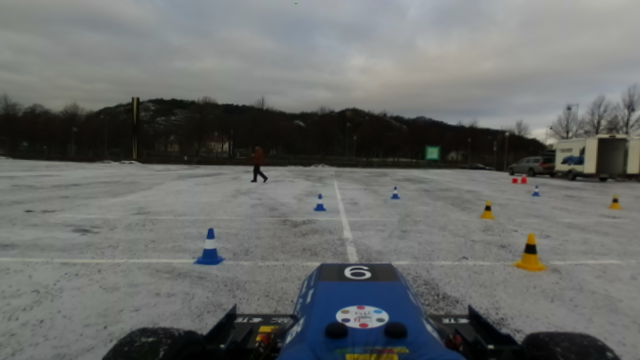blue: (193, 225, 226, 267)
yellow: (513, 231, 550, 274)
